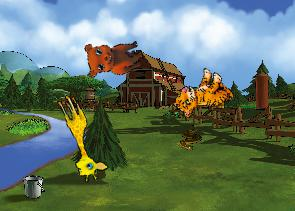bear: (79, 26, 147, 85)
giraffe: (45, 91, 111, 185)
tiger: (169, 61, 238, 131)
